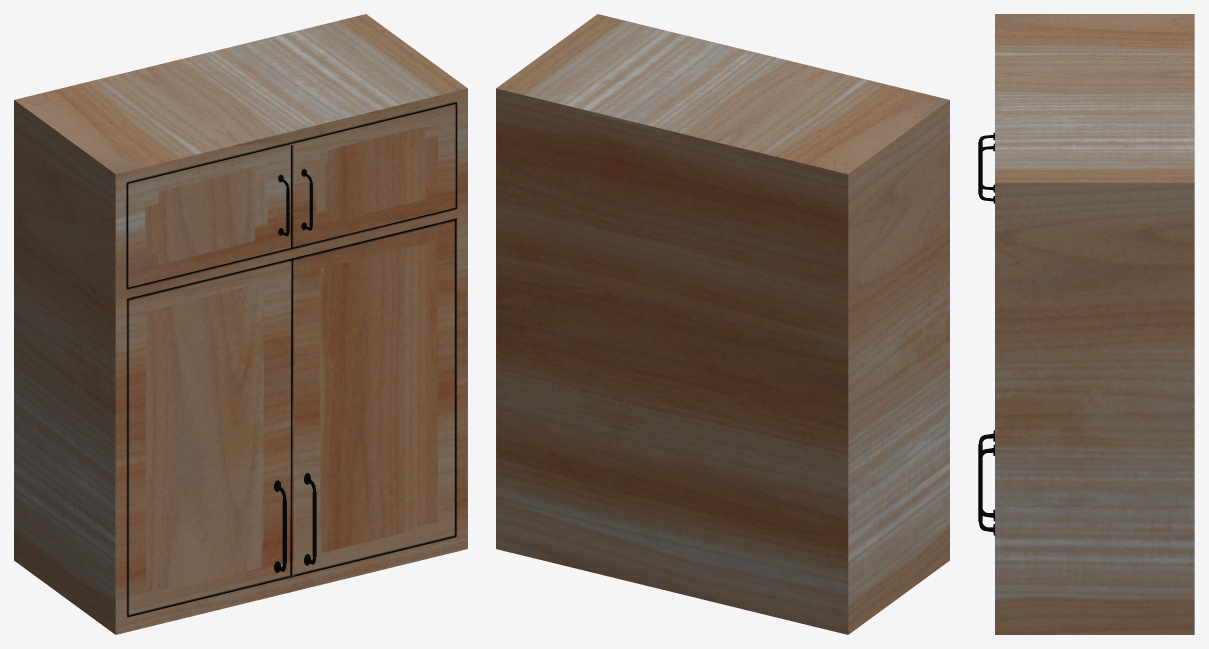
File: Kitchen_Cupboard.fbx
The picture shows the model from 3 angles, left to right: view 1: azimuth 30°, elevation 25°; view 2: azimuth 150°, elevation 25°; view 3: azimuth 270°, elevation 25°; orthographic projection.
Parts seen in each view (by area): view 1: Cupboard; view 2: Cupboard; view 3: Cupboard.
Part boxes in pixels (<box>): Cupboard: <box>14,14,467,634</box>; Cupboard: <box>496,14,949,634</box>; Cupboard: <box>978,14,1194,634</box>.
Bounding box in the file's own units: 112 × 140 × 60.73.
